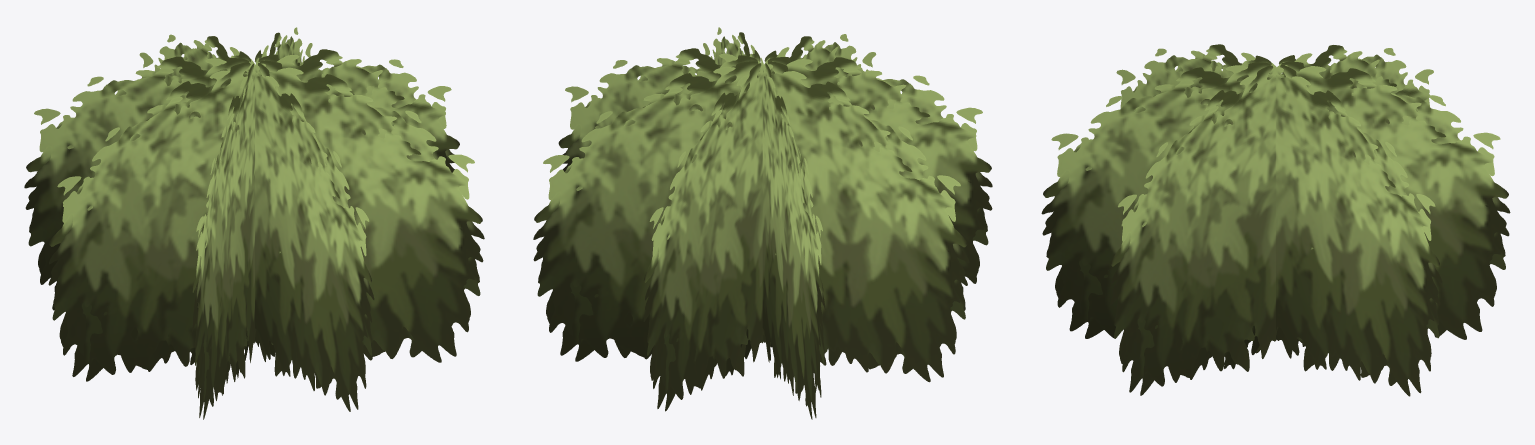
The model's file is HP3_bush034.fbx.
3 renders of one model, left to right at view 1: azimuth 30°, elevation 25°; view 2: azimuth 150°, elevation 25°; view 3: azimuth 270°, elevation 25°, orthographic.
Parts seen in each view (by area): view 1: HP3_bush034; view 2: HP3_bush034; view 3: HP3_bush034.
Part boxes in pixels (bbox=[...]): HP3_bush034: bbox=[24, 27, 484, 419]; HP3_bush034: bbox=[533, 27, 992, 419]; HP3_bush034: bbox=[1041, 44, 1510, 396].
Size of the model in its own units: 10.1 by 7.21 by 10.1.
